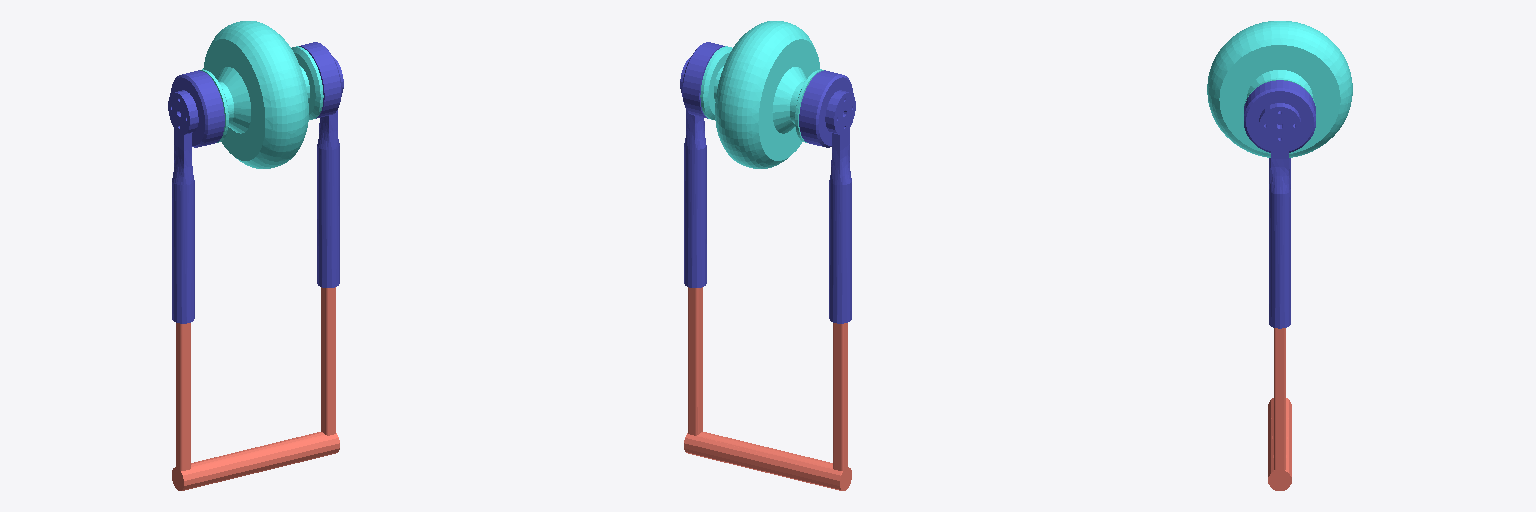
URDF robot description (SLIPone):
<?xml version="1.0" encoding="utf-8"?>
<!-- This URDF was automatically created by SolidWorks to URDF Exporter! Originally created by [author] ([email redacted]) 
     Commit Version: 1.6.0-1-g15f4949  Build Version: 1.6.7594.29634
     For more information, please see http://wiki.ros.org/sw_urdf_exporter -->
<robot
  name="SLIPone">
  <link
    name="Torso">
    <inertial>
      <origin
        xyz="0.06809 -0.03213 -0.021321"
        rpy="0 0 0" />
      <mass
        value="1.6644" />
      <inertia
        ixx="0.0020012"
        ixy="1.6636E-21"
        ixz="-1.2397E-20"
        iyy="0.001262"
        iyz="-6.0222E-21"
        izz="0.001262" />
    </inertial>
    <visual>
      <origin
        xyz="0 0 0"
        rpy="0 0 0" />
      <geometry>
        <mesh
          filename="package://SLIPone/meshes/Torso.STL" />
      </geometry>
      <material
        name="">
        <color
          rgba="0.43529 1 0.98824 1" />
      </material>
    </visual>
    <collision>
      <origin
        xyz="0 0 0"
        rpy="0 0 0" />
      <geometry>
        <mesh
          filename="package://SLIPone/meshes/Torso.STL" />
      </geometry>
    </collision>
  </link>
  <link
    name="Thigh">
    <inertial>
      <origin
        xyz="2.8626E-11 -0.019078 0.068073"
        rpy="0 0 0" />
      <mass
        value="0.13442" />
      <inertia
        ixx="0.00014466"
        ixy="-1.4794E-13"
        ixz="-2.2785E-10"
        iyy="3.4061E-05"
        iyz="-1.6579E-08"
        izz="0.00017214" />
    </inertial>
    <visual>
      <origin
        xyz="0 0 0"
        rpy="0 0 0" />
      <geometry>
        <mesh
          filename="package://SLIPone/meshes/Thigh.STL" />
      </geometry>
      <material
        name="">
        <color
          rgba="0.38824 0.4 0.85882 0.6" />
      </material>
    </visual>
    <collision>
      <origin
        xyz="0 0 0"
        rpy="0 0 0" />
      <geometry>
        <mesh
          filename="package://SLIPone/meshes/Thigh.STL" />
      </geometry>
    </collision>
  </link>
  <joint
    name="Rotate"
    type="continuous">
    <origin
      xyz="0 0.021321 -0.03213"
      rpy="1.5708 0 1.5708" />
    <parent
      link="Torso" />
    <child
      link="Thigh" />
    <axis
      xyz="0 0 1" />
  </joint>
  <link
    name="Feet">
    <inertial>
      <origin
        xyz="8.9937E-10 1.6594E-09 0.12684"
        rpy="0 0 0" />
      <mass
        value="0.036401" />
      <inertia
        ixx="9.0381E-05"
        ixy="6.4755E-13"
        ixz="-3.5682E-13"
        iyy="0.00019203"
        iyz="-4.9625E-13"
        izz="0.00010298" />
    </inertial>
    <visual>
      <origin
        xyz="0 0 0"
        rpy="0 0 0" />
      <geometry>
        <mesh
          filename="package://SLIPone/meshes/Feet.STL" />
      </geometry>
      <material
        name="">
        <color
          rgba="1 0.5451 0.48235 1" />
      </material>
    </visual>
    <collision>
      <origin
        xyz="0 0 0"
        rpy="0 0 0" />
      <geometry>
        <mesh
          filename="package://SLIPone/meshes/Feet.STL" />
      </geometry>
    </collision>
  </link>
  <joint
    name="Trans"
    type="prismatic">
    <origin
      xyz="0 -0.162 0.068054"
      rpy="1.5708 -1.5708 0" />
    <parent
      link="Thigh" />
    <child
      link="Feet" />
    <axis
      xyz="0 0 1" />
    <limit
      lower="-0.10"
      upper="0.02"
      effort="0"
      velocity="0" />
  </joint>
</robot>

--- Facts derived from the render (not from the file) ---
Views: 3 orthographic renders of the robot side by side, from view 1: azimuth 30°, elevation 25°; view 2: azimuth 150°, elevation 25°; view 3: azimuth 270°, elevation 25°.
Robot: SLIPone — 3 links, 2 joints (1 continuous, 1 prismatic); root link Torso; default pose: every joint at zero.
Links seen in each view (by area): view 1: Thigh, Torso, Feet; view 2: Thigh, Torso, Feet; view 3: Torso, Thigh, Feet.
Link boxes in pixels (x1,y1,x2,y2): Thigh: (168, 42, 343, 323); Torso: (200, 21, 323, 168); Feet: (172, 287, 339, 490); Thigh: (680, 42, 855, 323); Torso: (700, 21, 823, 168); Feet: (684, 287, 851, 490); Torso: (1207, 21, 1352, 157); Thigh: (1244, 80, 1315, 328); Feet: (1268, 328, 1291, 490).
Bounding box of the posed robot: 0.152 × 0.12 × 0.392 m (x, y, z).
Meshes: 3 distinct files referenced, 3 mesh visuals loaded (3 binary STL).